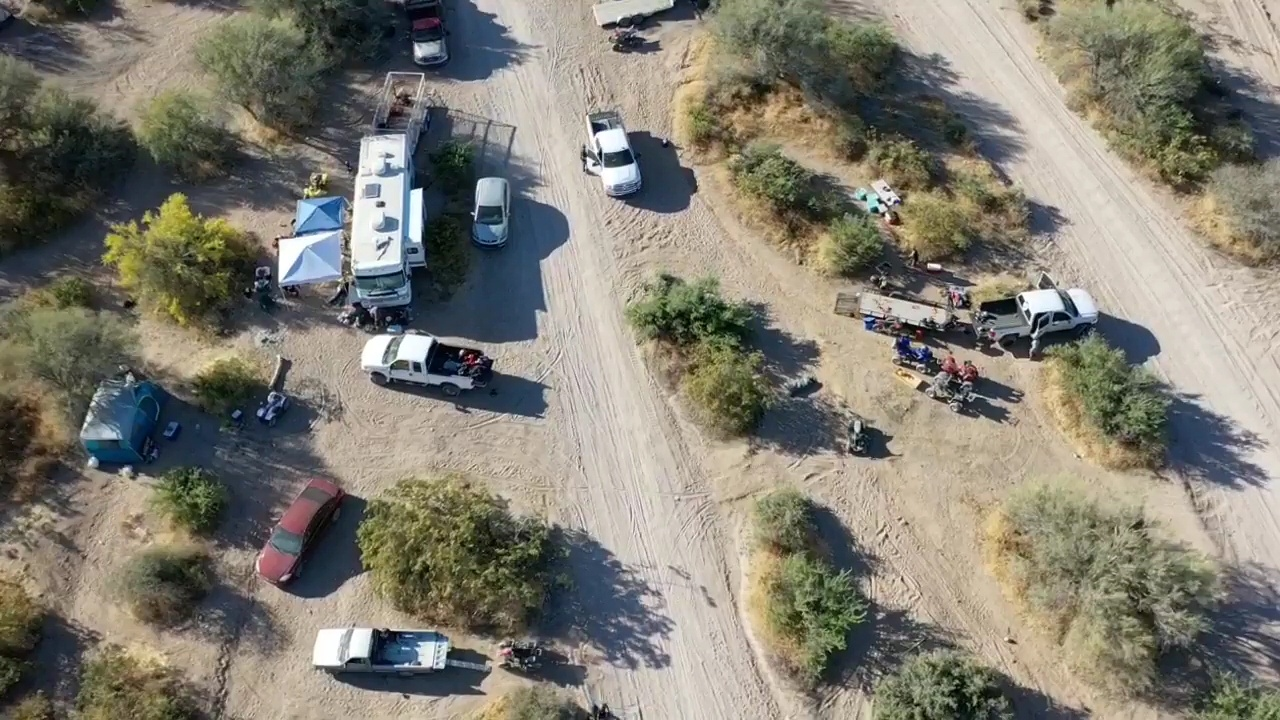araba: (249, 472, 346, 587), (471, 173, 511, 245), (411, 13, 449, 71)
insan: (1024, 331, 1043, 363), (578, 143, 592, 173)
kamyonet: (357, 322, 496, 402), (969, 281, 1104, 345), (307, 621, 453, 674), (589, 105, 640, 194)
